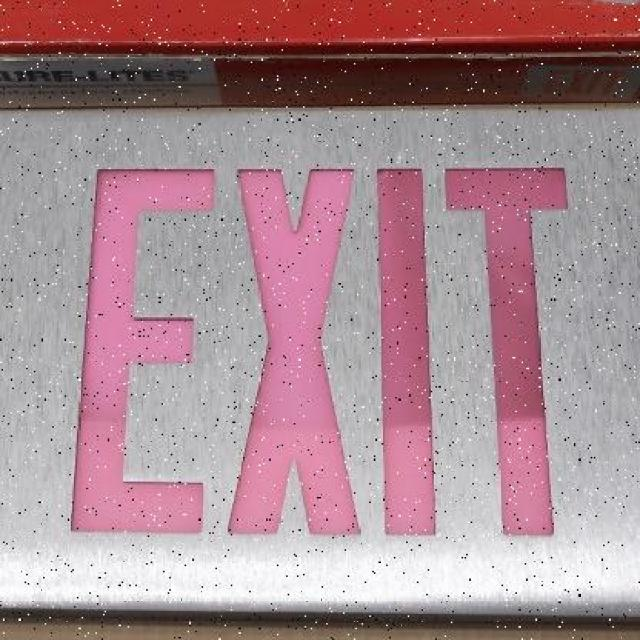emergency_exit: (2, 6, 638, 627), (69, 161, 571, 541)
